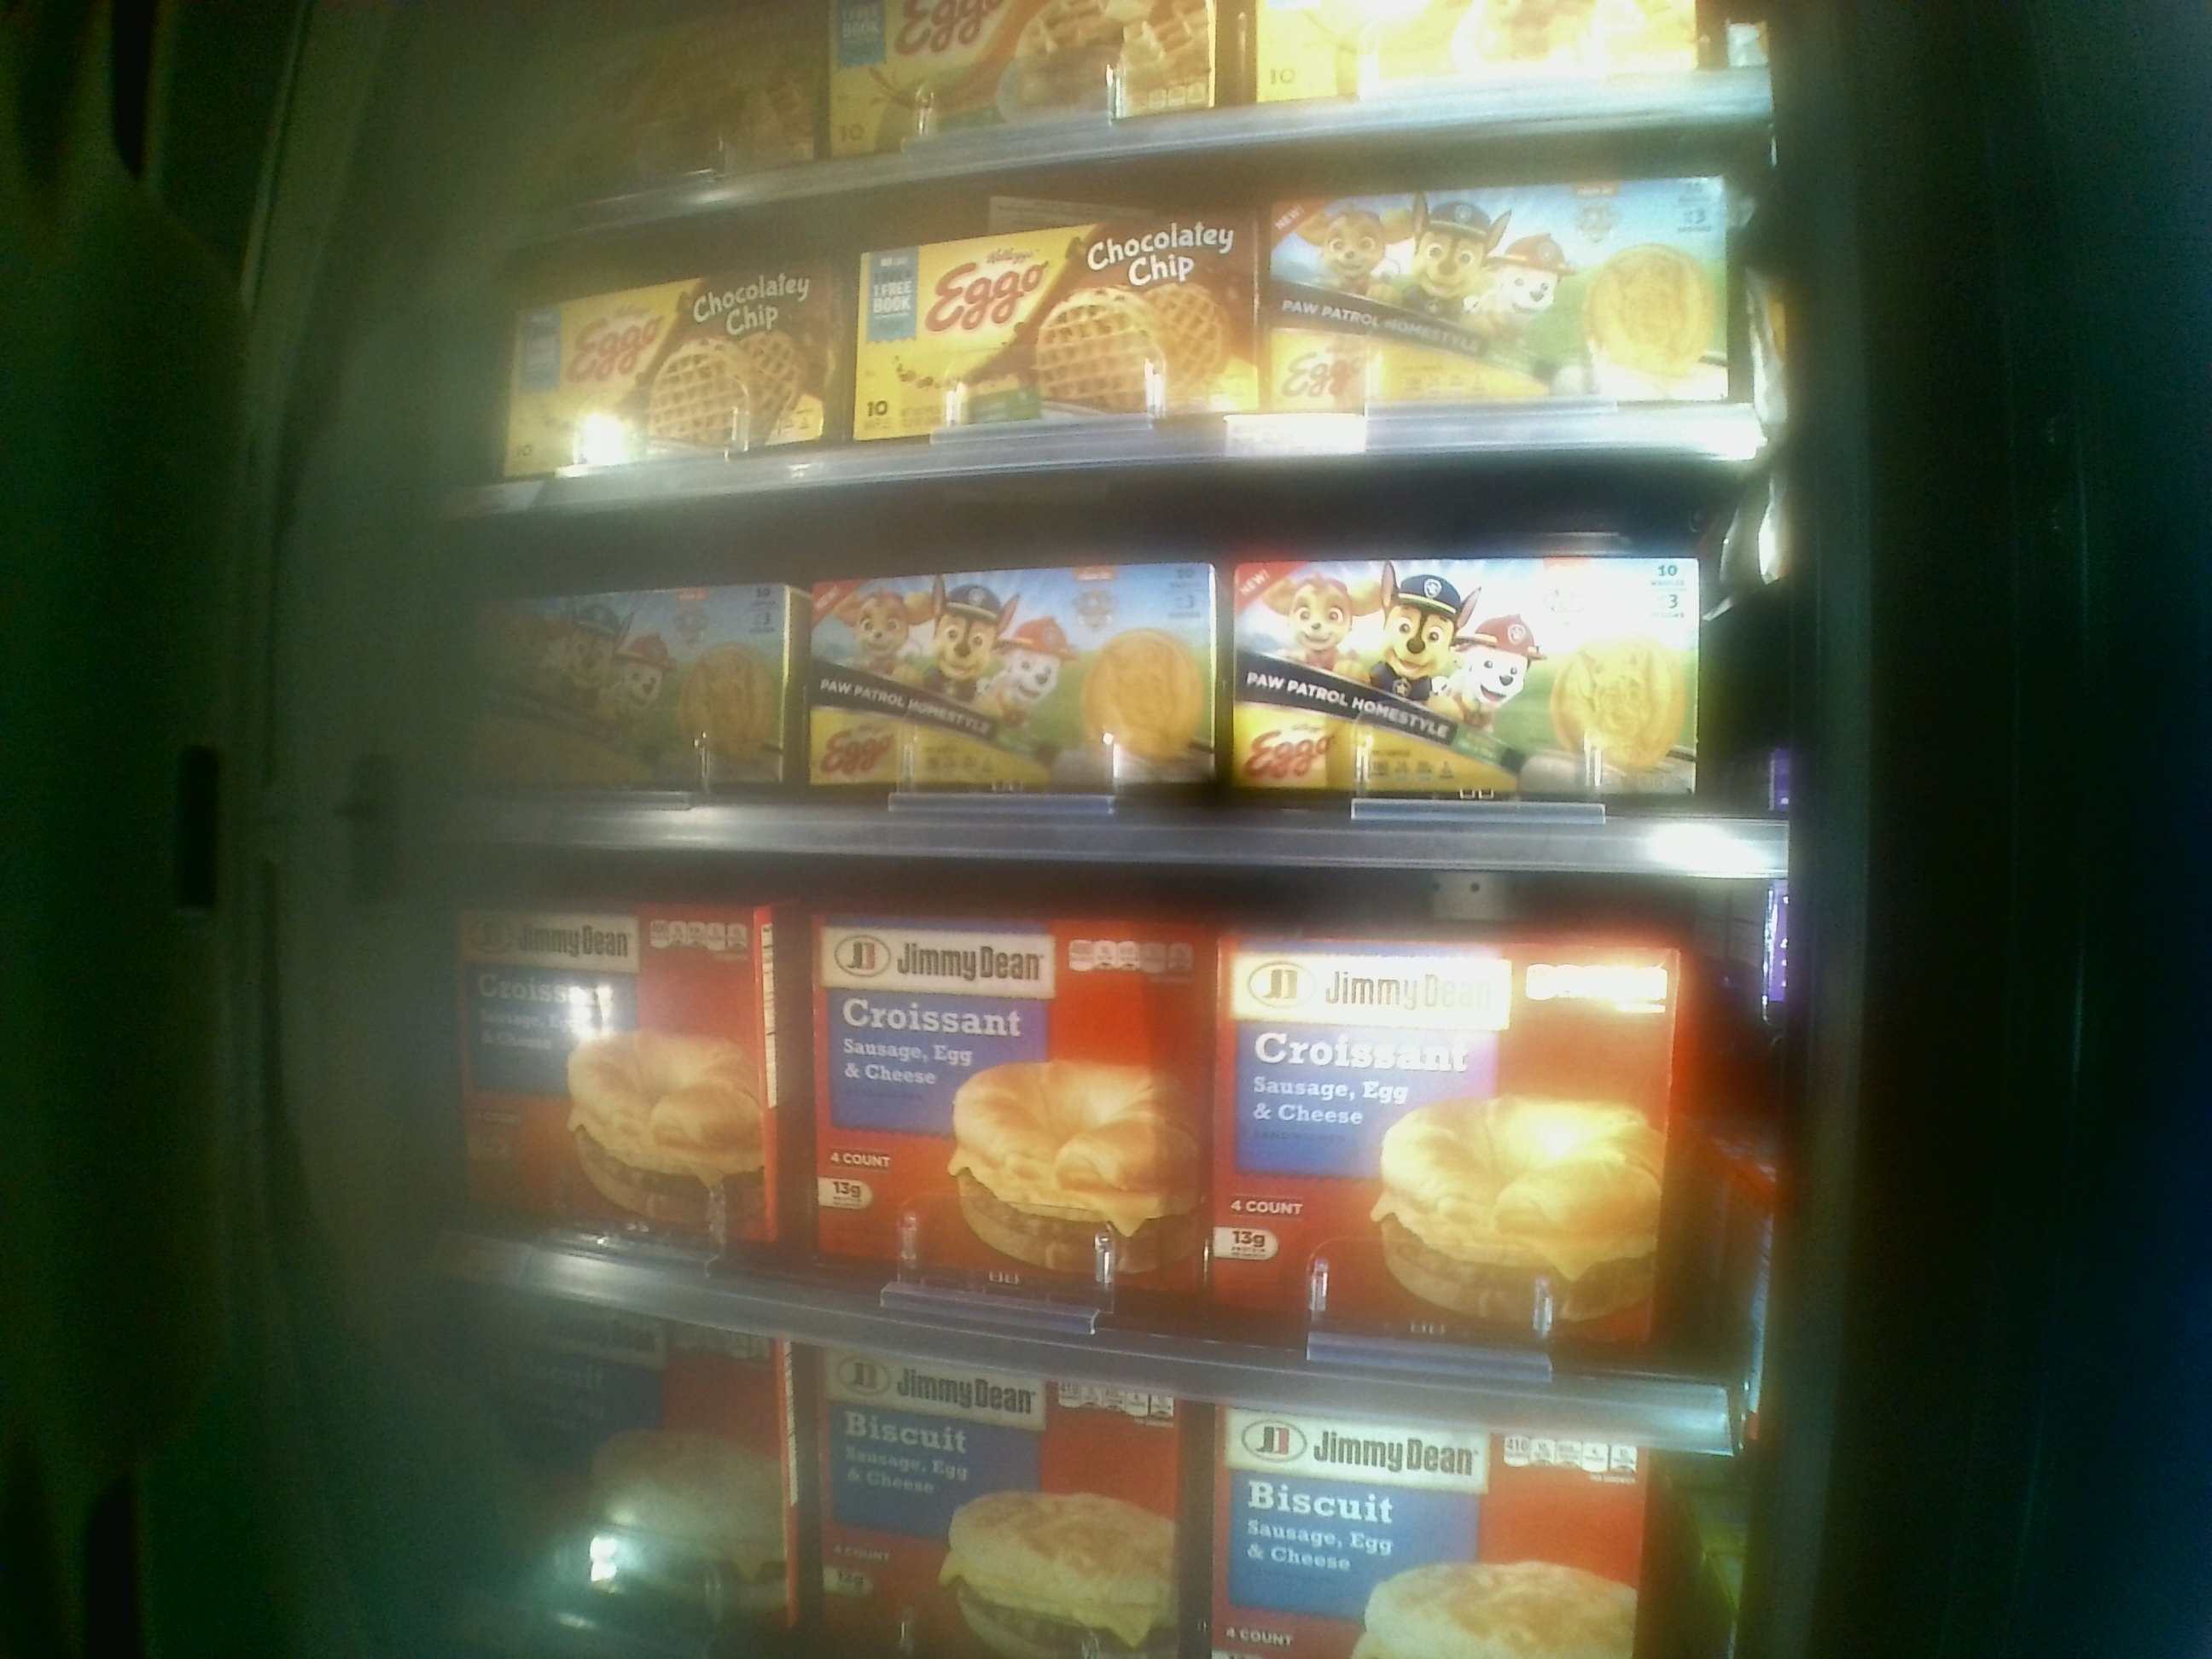shelf: (441, 455, 1787, 870)
